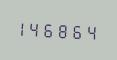eight: (57, 19, 69, 40)
four: (30, 18, 42, 39), (83, 21, 95, 41)
one: (17, 17, 29, 38)
six: (70, 20, 82, 41), (44, 19, 56, 39)
